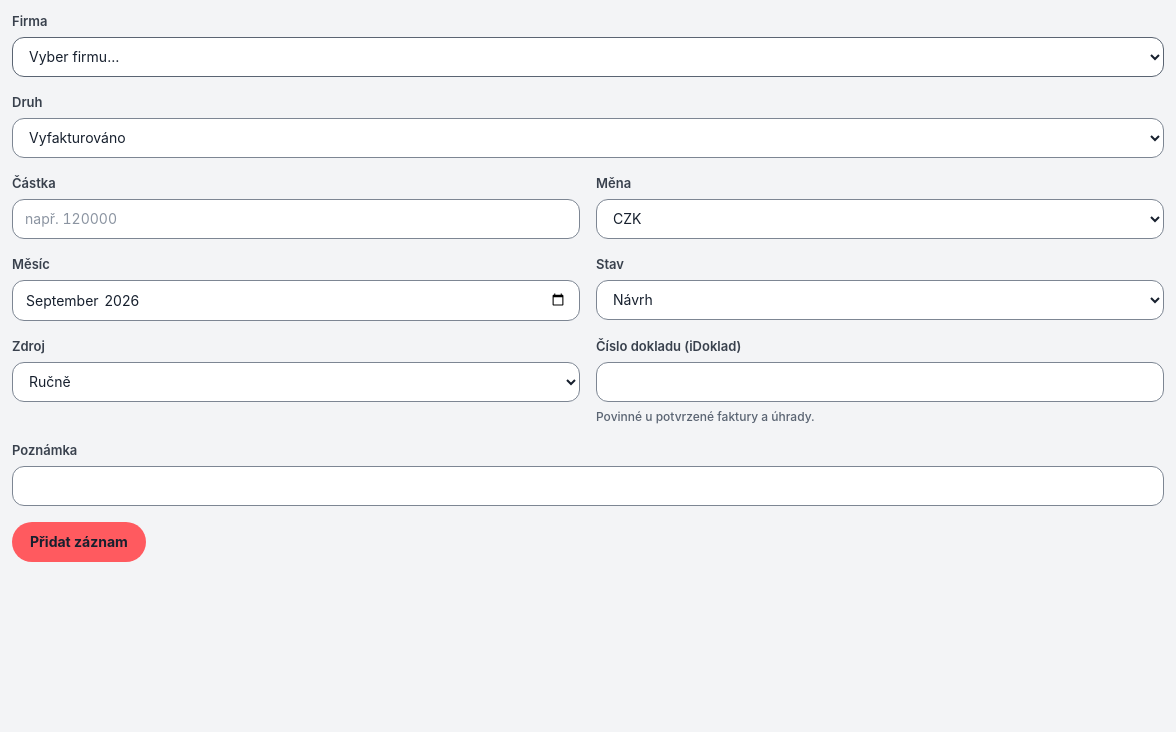
formulář: pole Splatnost › nový záznam: splatnost se objeví jen u druhu Vyfakturováno
Select "Vyfakturováno" in the dropdown named "kind". click: (588, 138)
box: top-left (12, 118), bottom-right (1164, 158)
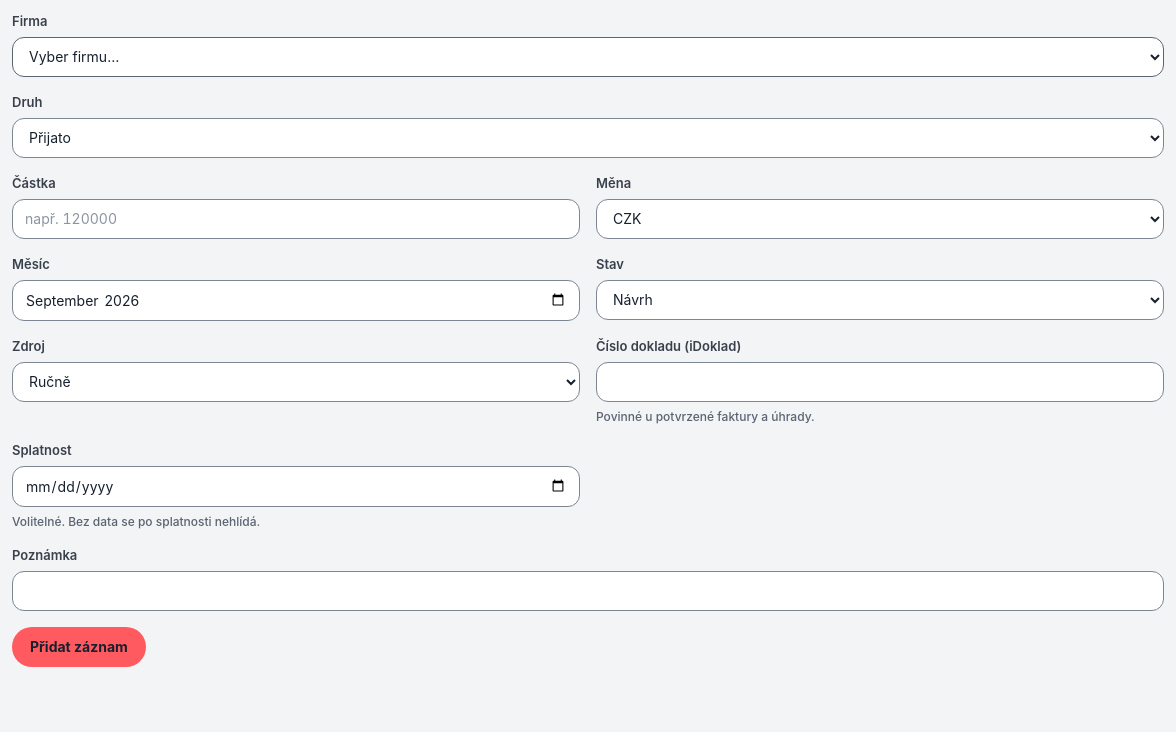
Result: the date field named "due_on" is shown at top-left (12, 466), bottom-right (580, 507)
Result: the text "Splatnost" is shown at top-left (12, 442), bottom-right (72, 458)
Select "Přijato" in the dropdown named "kind". click: (588, 138)
box: top-left (12, 118), bottom-right (1164, 158)
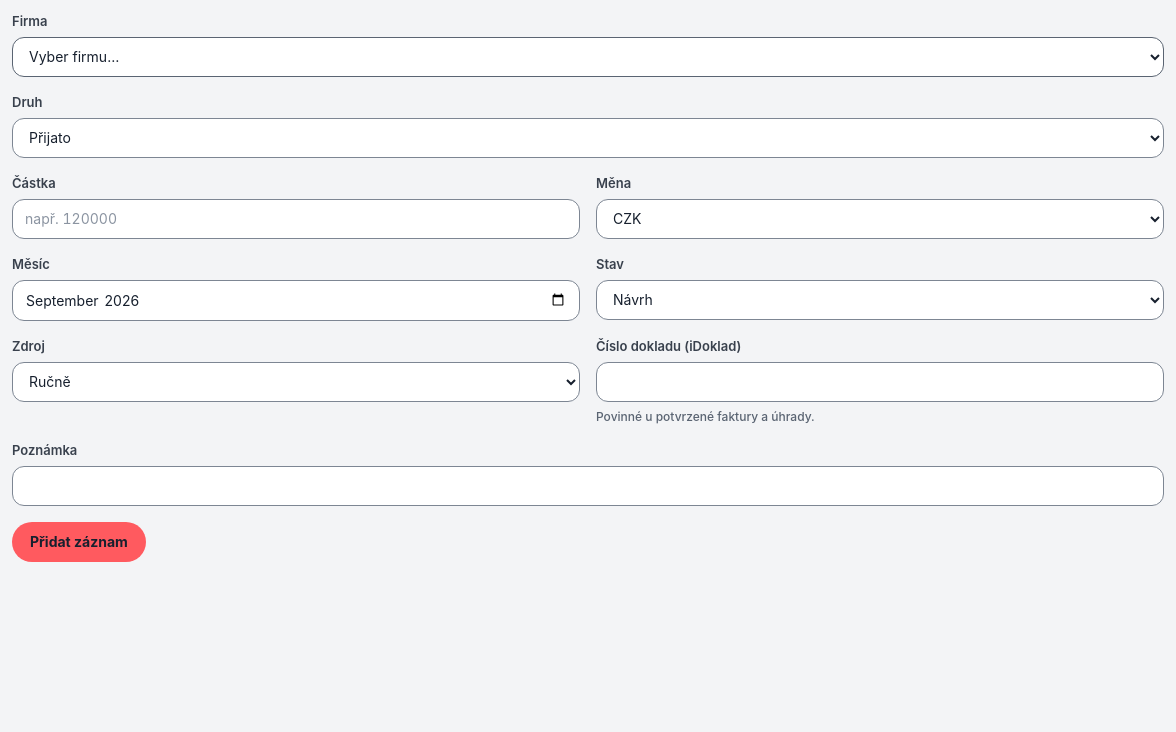
Result: the date field named "due_on" is gone
